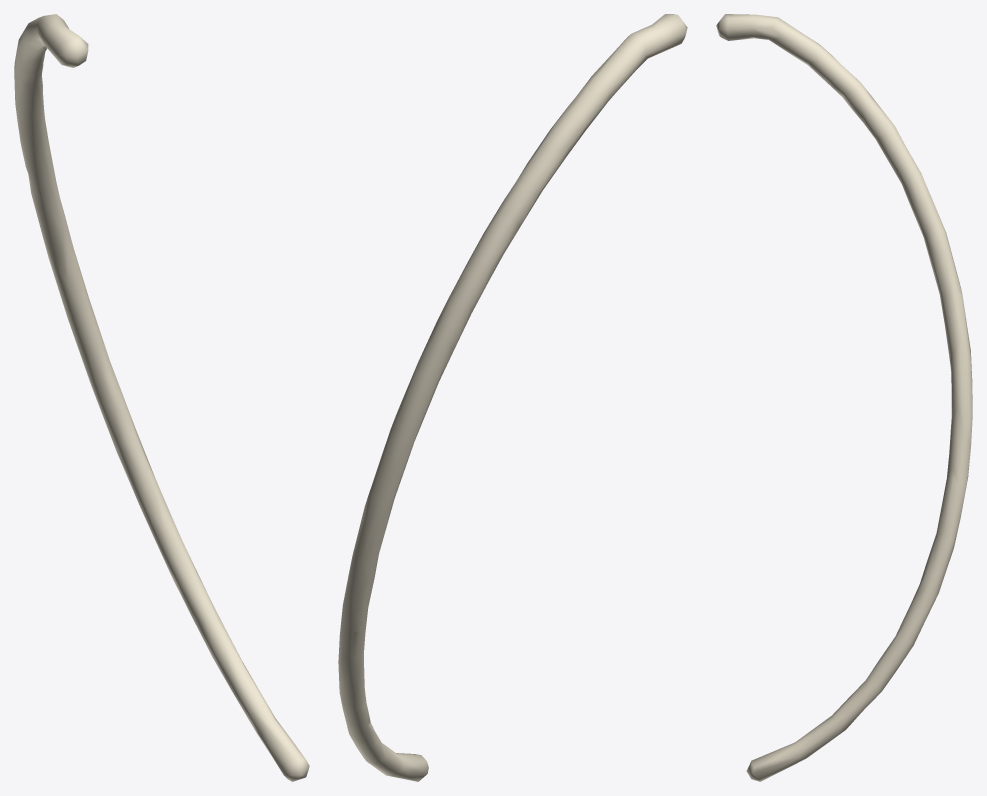
Rendered from rib_8_r.glb.
3 renders of one model, left to right at view 1: azimuth 30°, elevation 25°; view 2: azimuth 150°, elevation 25°; view 3: azimuth 270°, elevation 25°, orthographic. The views are drawn at different scales.
Parts seen in each view (by area): view 1: geometry_0; view 2: geometry_0; view 3: geometry_0.
Part boxes in pixels (x1=…): geometry_0: x1=14, y1=14, x2=309, y2=781; geometry_0: x1=338, y1=14, x2=687, y2=781; geometry_0: x1=716, y1=14, x2=972, y2=781.
Size of the model in its own units: 0.4396 by 1.29 by 0.4473.
